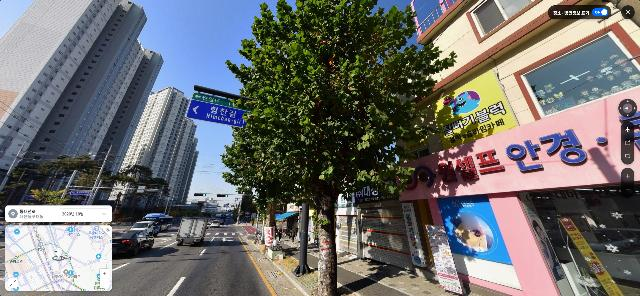other: (223, 0, 458, 296), (220, 139, 292, 248), (227, 165, 267, 240), (237, 194, 256, 224)
